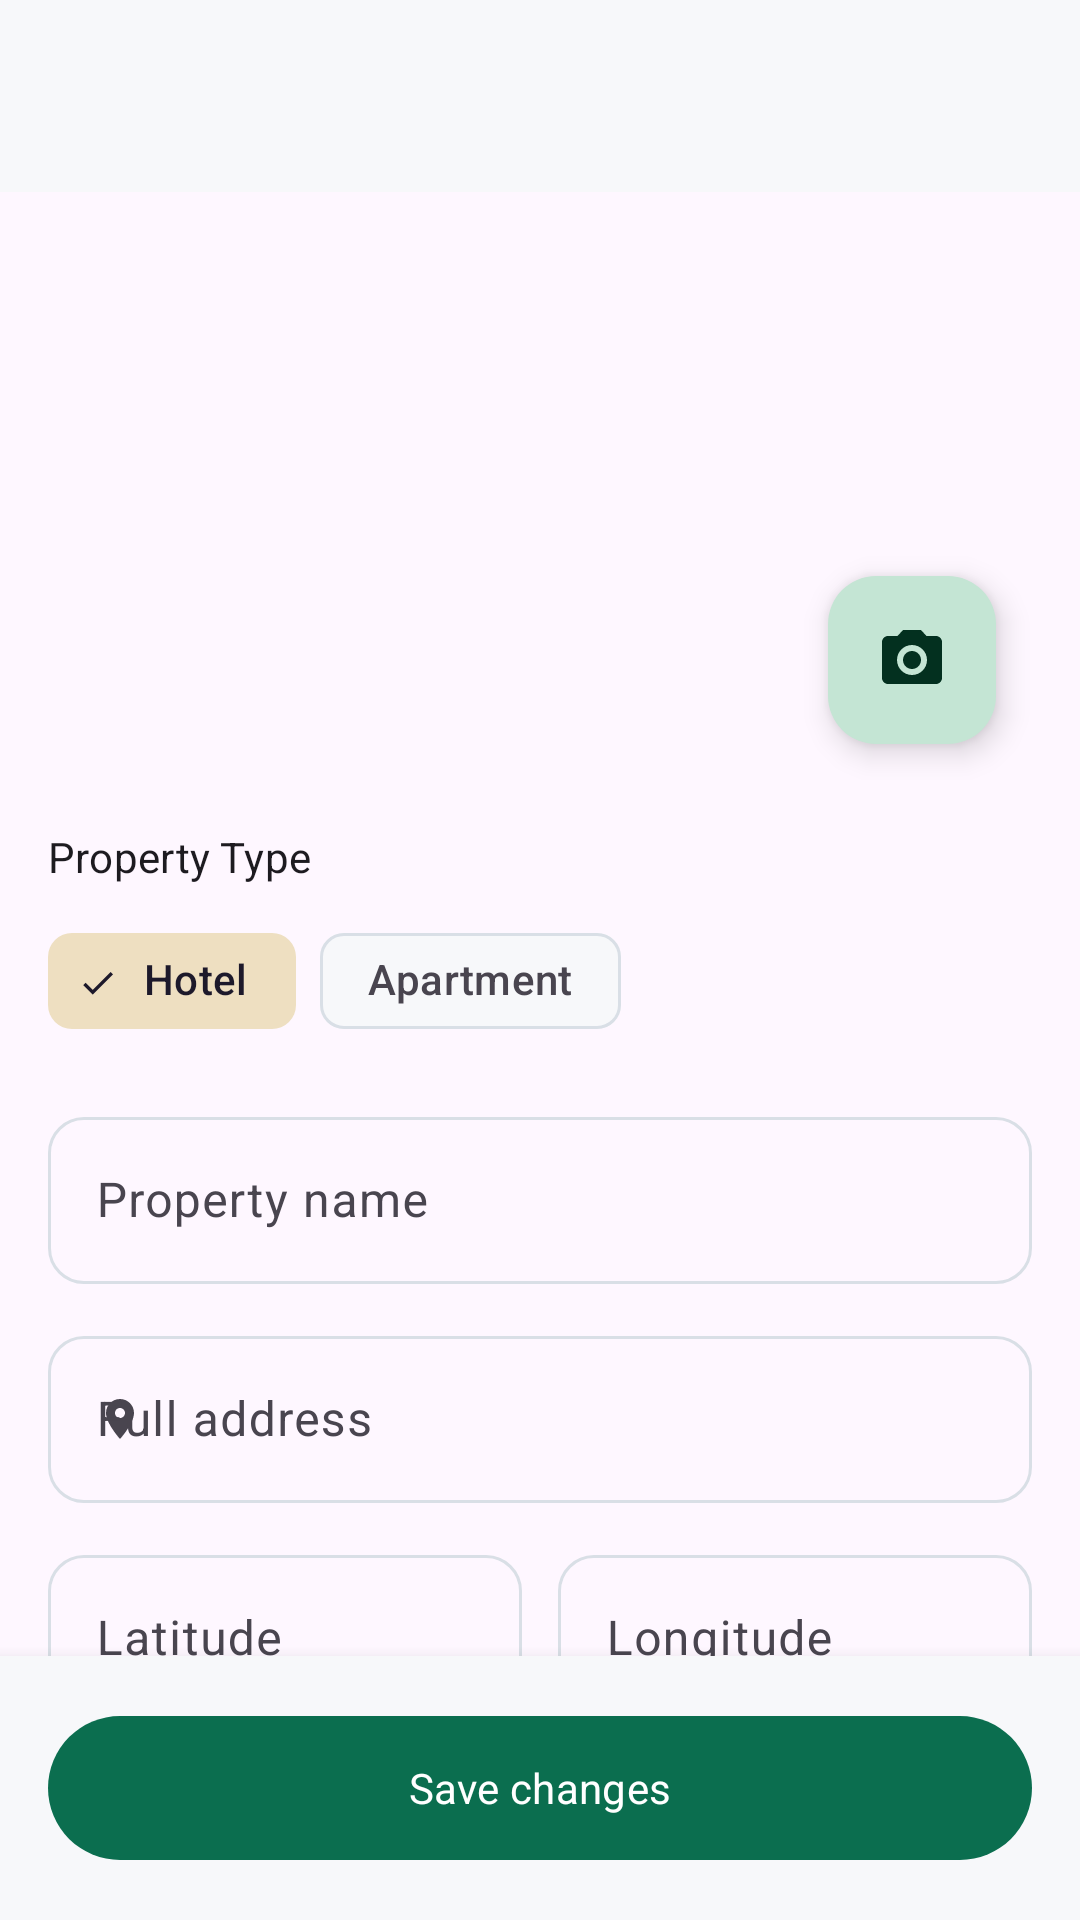

Screen size 1080 × 1920. Icon name, then its box in pixels as (x1, y1, x2, y2):
camera: (828, 576, 996, 744)
